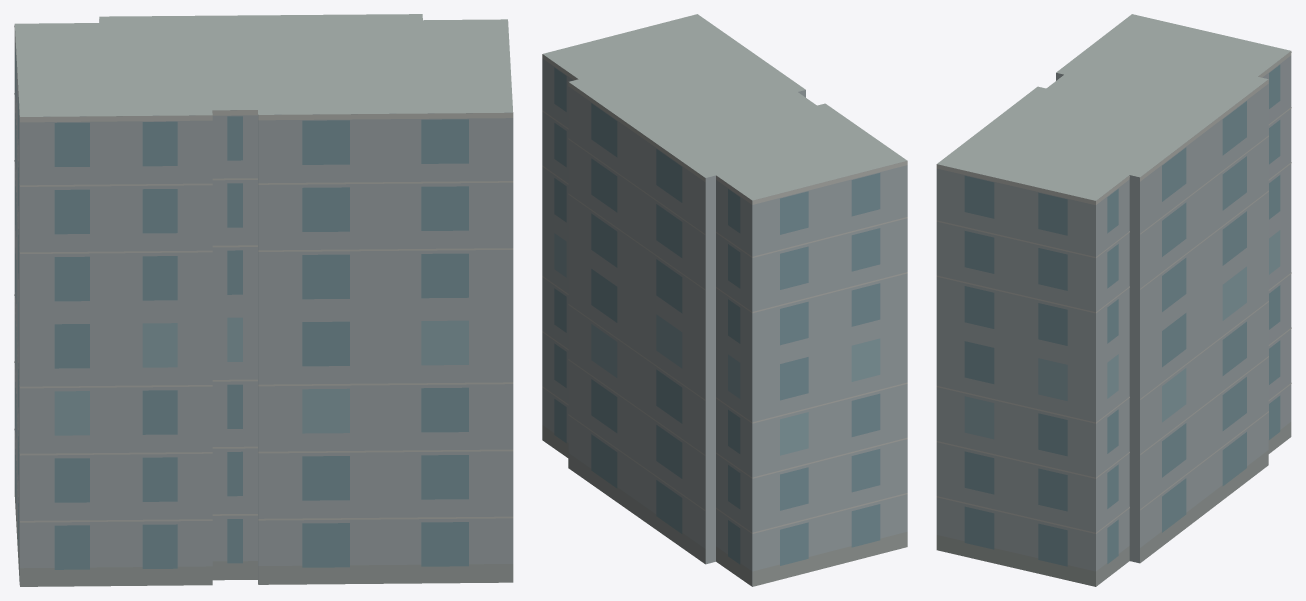
File: survey-upis-32769841.glb
3 renders of one model, left to right at view 1: azimuth 30°, elevation 25°; view 2: azimuth 150°, elevation 25°; view 3: azimuth 270°, elevation 25°, orthographic. The views are drawn at different scales.
Parts seen in each view (by area): view 1: survey-upis-32769841.tmp; view 2: survey-upis-32769841.tmp; view 3: survey-upis-32769841.tmp.
Boxes of the visible parts, x1,y1,x2,y2 form: survey-upis-32769841.tmp: (14,14,513,586); survey-upis-32769841.tmp: (542,14,907,586); survey-upis-32769841.tmp: (936,14,1291,586).
Size of the model in its own units: 22.19 by 21.35 by 17.8.
